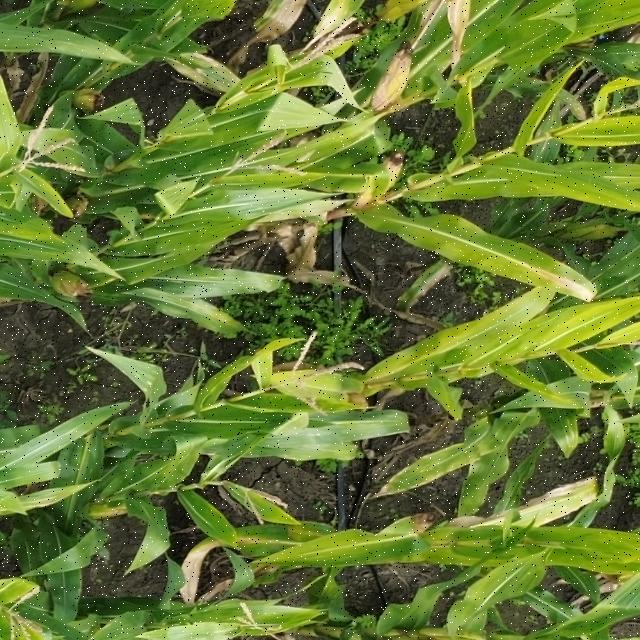northern-leaf-blight: (371, 422, 503, 507), (442, 475, 600, 539), (165, 521, 332, 566), (508, 246, 604, 321)
southern-leaf-blight: (8, 209, 111, 280), (550, 525, 640, 574), (252, 387, 322, 430), (131, 361, 183, 410)
